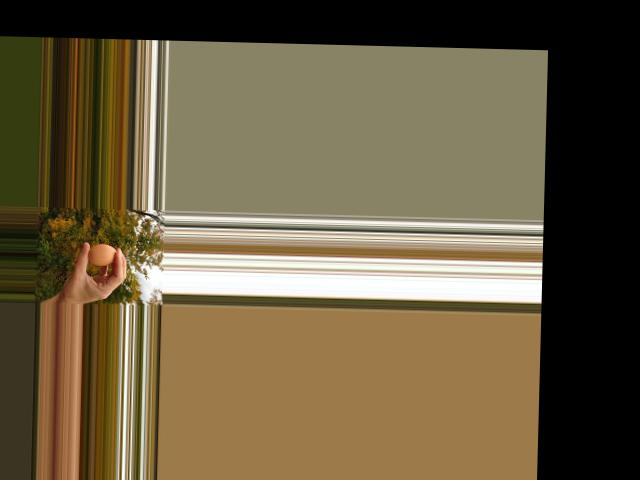egg: (87, 243, 117, 265)
